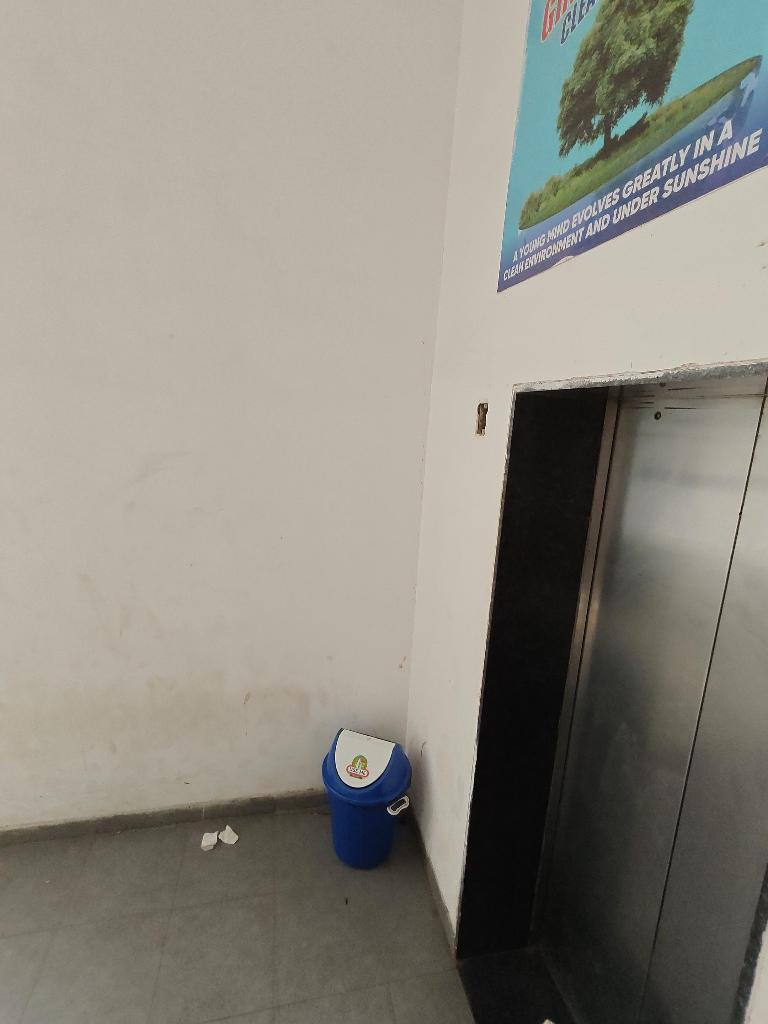dustbin: (310, 717, 420, 878)
